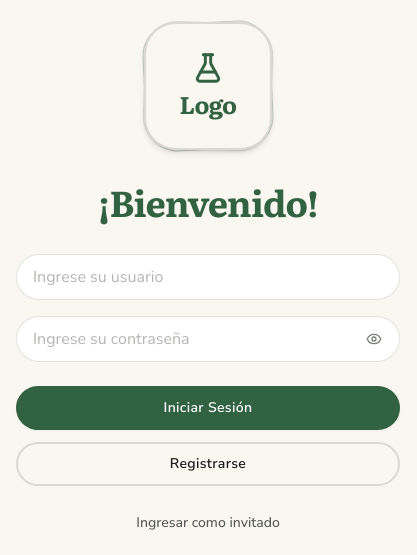
Test case: App Component › navigates from login to onboarding and back
The image size is (417, 555).
Click the button "Registrarse": (208, 464) [16,442,400,486]
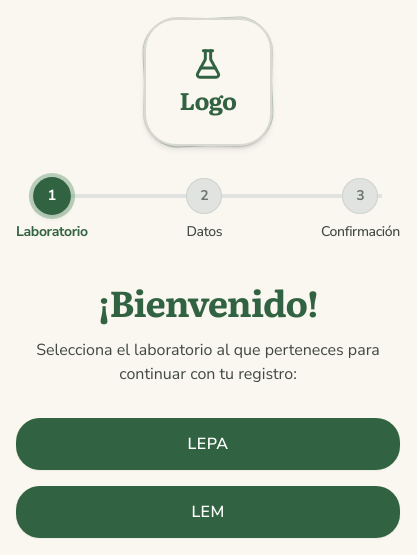
Expected: the text "Selecciona el laboratorio al que perteneces para continuar con tu registro" is shown, [36,339,380,385]
Expected: the button "LEPA" is shown, [16,418,400,470]
